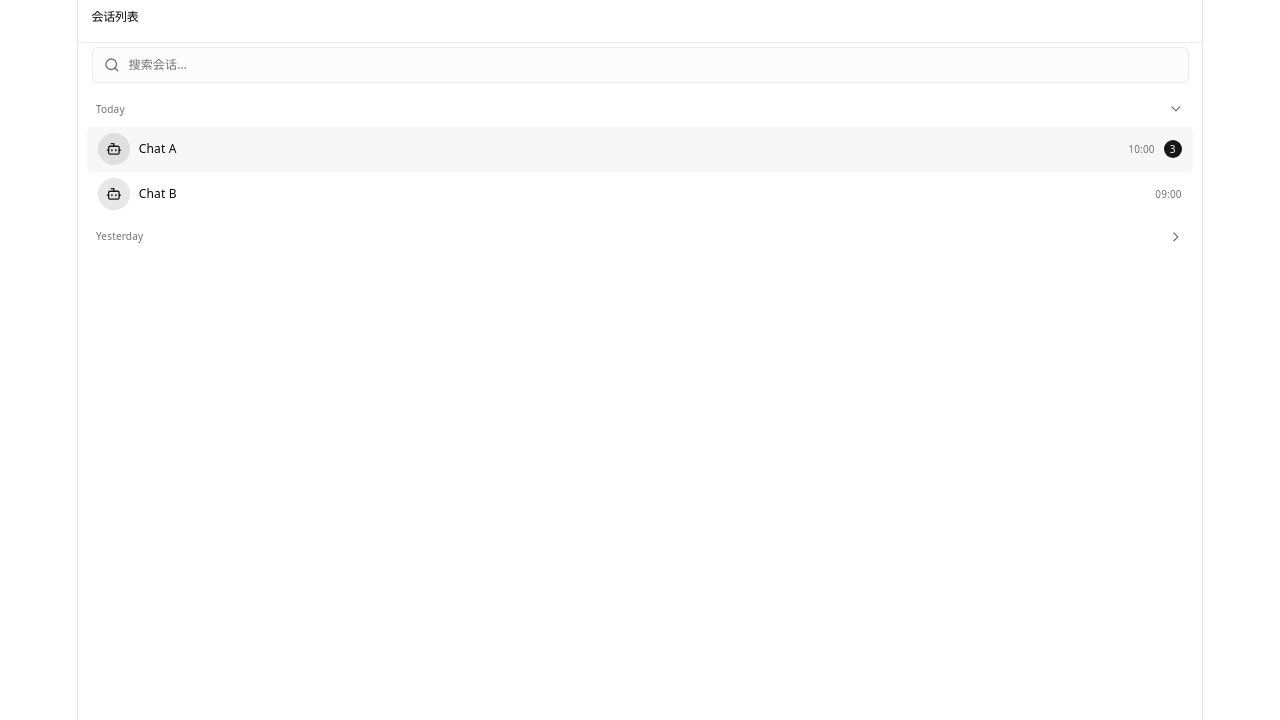
Test case: ChatConversations › supports collapsible groups
The image size is (1280, 720).
Check: the text "Chat C" is not shown
Click the button with aria-label "Yesterday 分组" at coordinates (120, 236), box [87,219,1193,254]
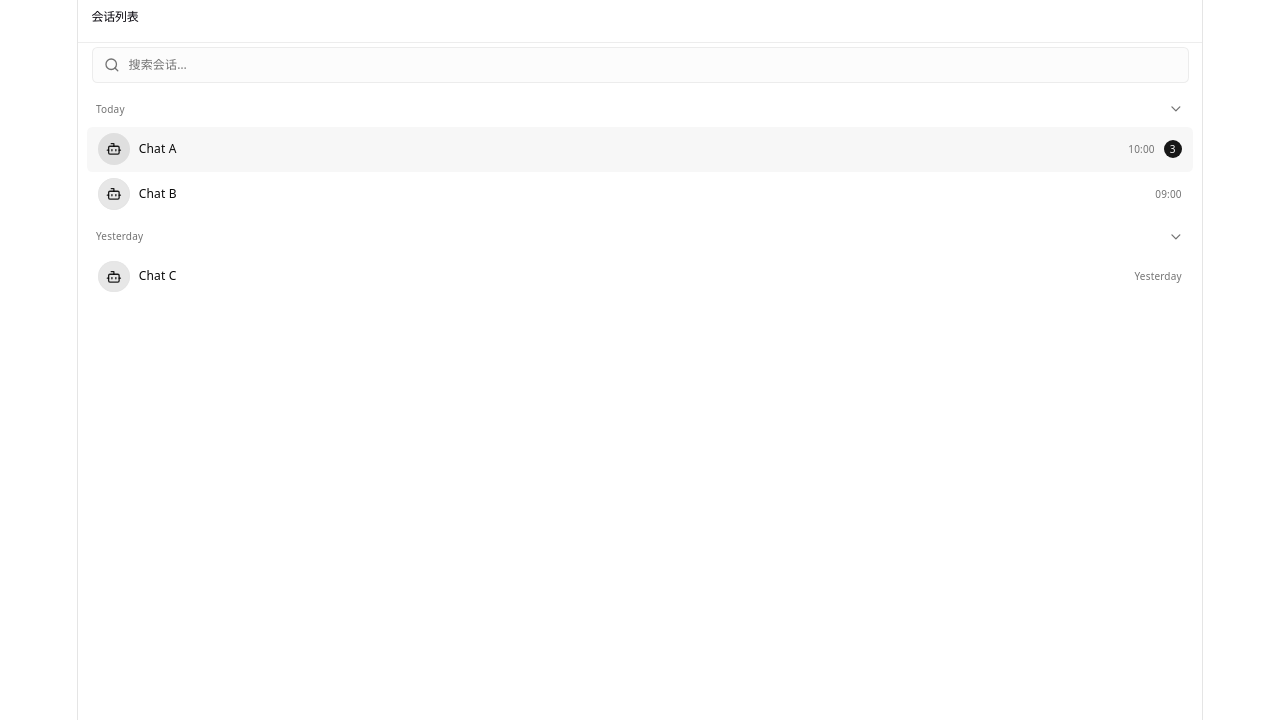
Check: the text "Chat C" is shown, box [139,266,177,286]
